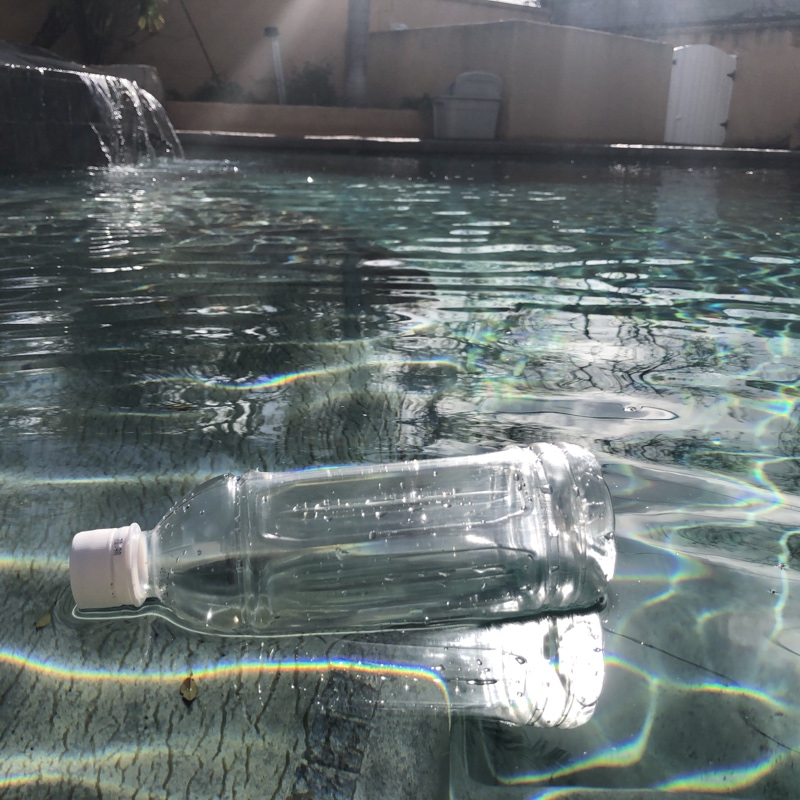Plastic Bottle: (61, 435, 622, 642)
